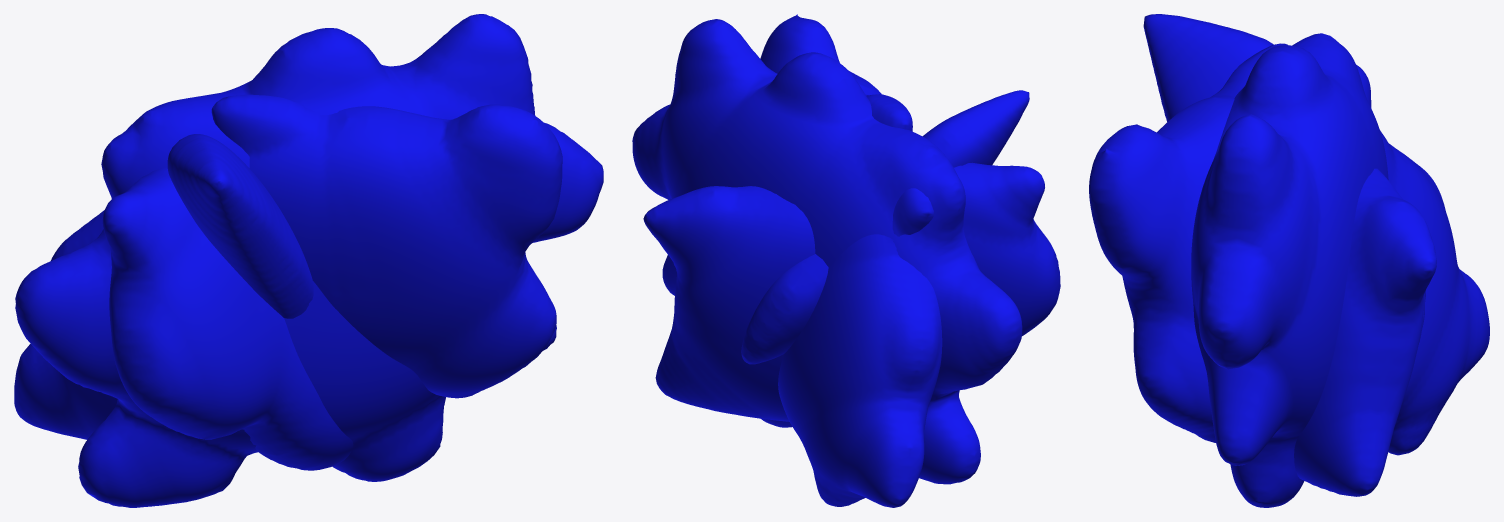
The model's file is bull.fbx.
3 renders of one model, left to right at view 1: azimuth 30°, elevation 25°; view 2: azimuth 150°, elevation 25°; view 3: azimuth 270°, elevation 25°, orthographic. The views are drawn at different scales.
Parts seen in each view (by area): view 1: root (×4); view 2: root (×4); view 3: root (×4).
Part boxes in pixels (left/top/right/bottom): root (×4): left=14, top=14, right=603, bottom=507; root (×4): left=632, top=14, right=1060, bottom=507; root (×4): left=1089, top=14, right=1489, bottom=507.
Size of the model in its own units: 0.2021 by 0.1735 by 0.1425.
